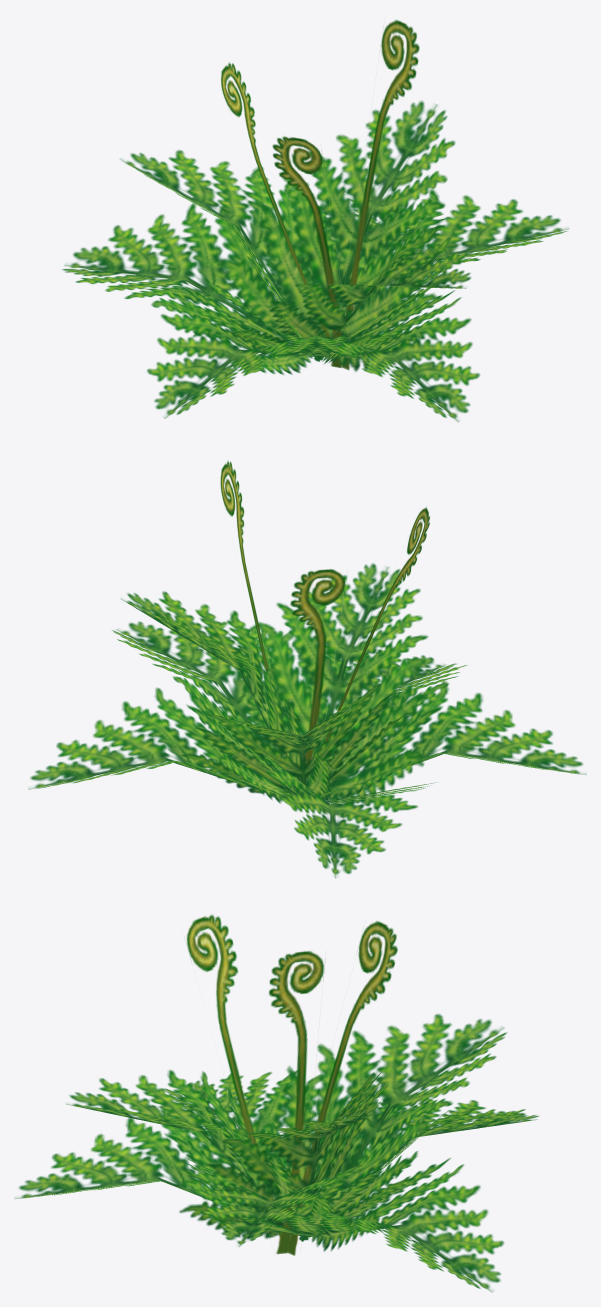
The picture shows the model from 3 angles, top to bottom: view 1: azimuth 30°, elevation 25°; view 2: azimuth 150°, elevation 25°; view 3: azimuth 270°, elevation 25°; orthographic projection. The views are drawn at different scales.
Parts seen in each view (by area): view 1: frond_05; view 2: frond_05; view 3: frond_05.
Boxes of the visible parts, left/top/right/bottom form: frond_05: left=62, top=20, right=569, bottom=422; frond_05: left=28, top=461, right=586, bottom=878; frond_05: left=14, top=915, right=538, bottom=1292.
Size of the model in its own units: 192 by 119 by 182.
1 material, 1 textured.
